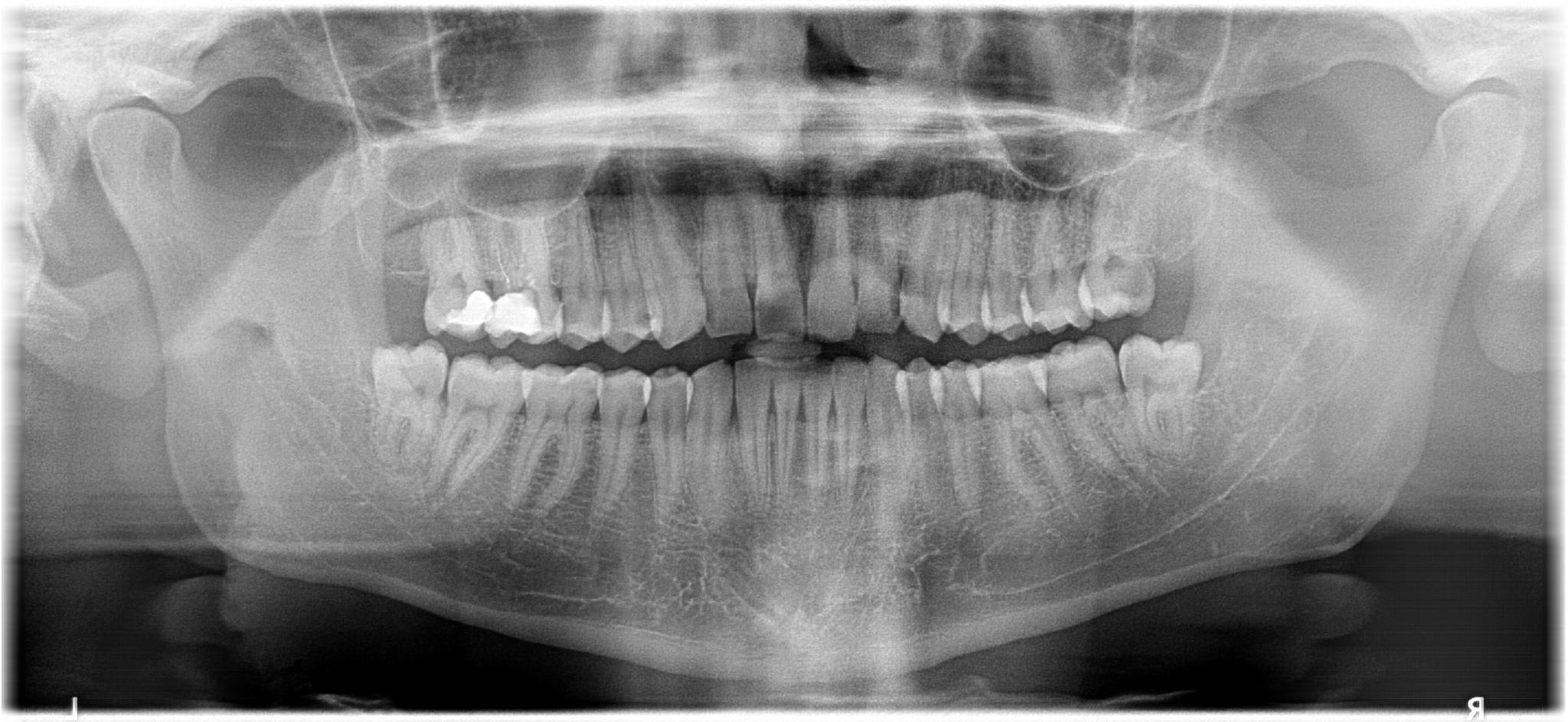Premolars: (473, 165, 1445, 509), (590, 176, 1568, 510), (357, 199, 1031, 566), (336, 194, 967, 559), (327, 174, 991, 507), (301, 179, 882, 545), (221, 173, 658, 514), (465, 69, 1313, 220), (607, 60, 1568, 193)
